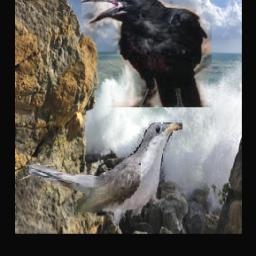Crow: (82, 0, 213, 108)
Cuckoo: (25, 120, 183, 234)
